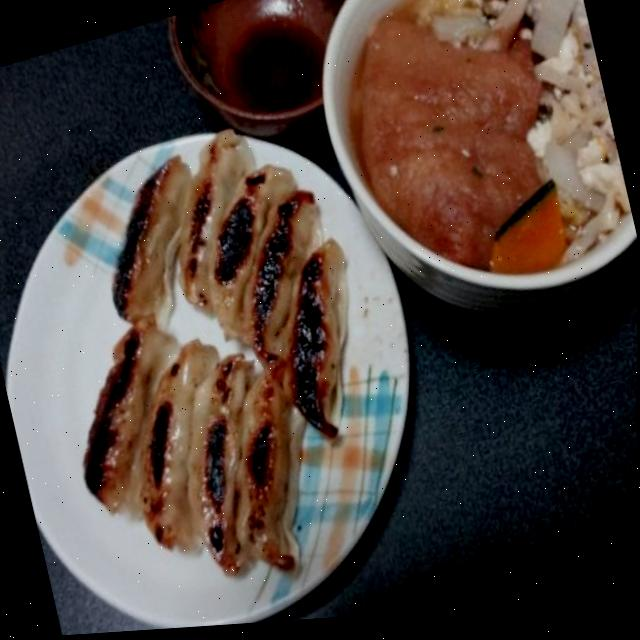带馅早点: (0, 95, 453, 640)
